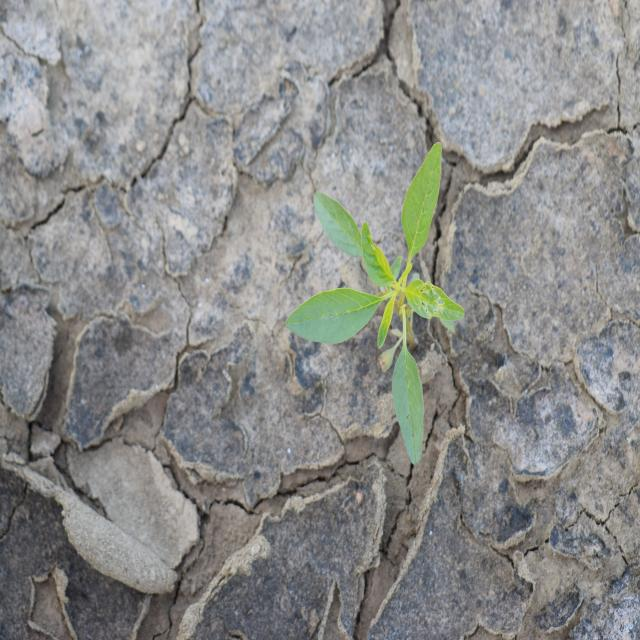Waterhemp: (284, 140, 466, 468)
